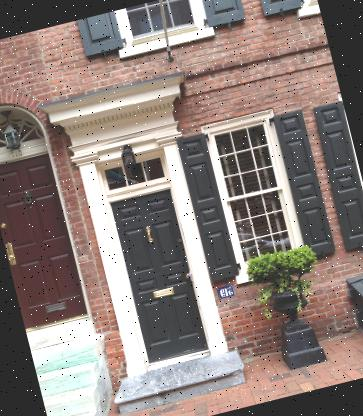door: (90, 138, 217, 374)
